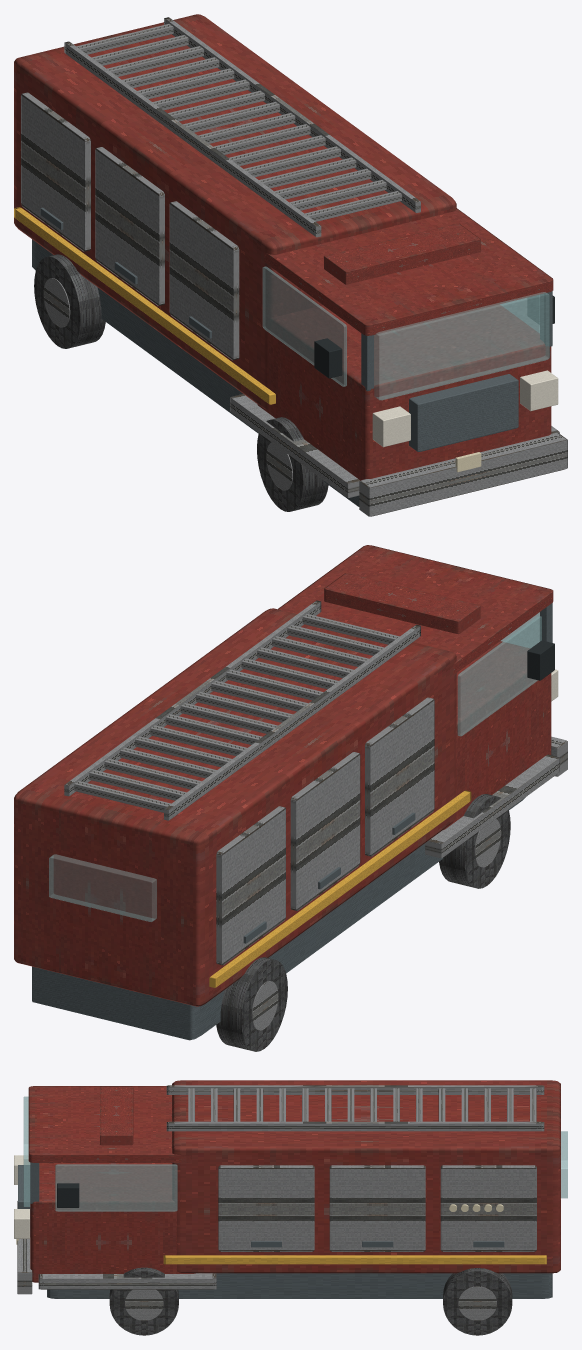
Rendered from engine.glb.
3 views of the same model, one above another, from view 1: azimuth 30°, elevation 25°; view 2: azimuth 150°, elevation 25°; view 3: azimuth 270°, elevation 25° (orthographic). The views are drawn at different scales.
Visible parts, largest first — view 1: body, cab, locker (×3), rung (×16), cab-roof, windshield, bumper, ladder-rail (×2), tyre (×2), grille, cab-glass (×2), lightbar (+7 smaller); view 2: body, locker (×3), rung (×16), cab-roof, cab, chassis, ladder-rail (×2), tyre (×2), cab-glass, lightbar, rear-windscreen, reflective (+4 smaller); view 3: body, locker (×3), cab, cab-roof, chassis, ladder-rail (×2), cab-glass, tyre (×2), reflective, running-board, rim (×2), lightbar (+7 smaller).
Boxes of the visible parts, box(x1,y1,x2,y2) form: body: box(14, 14, 456, 409); cab: box(257, 304, 551, 480); locker (×3): box(21, 92, 239, 360); rung (×16): box(76, 24, 401, 221); cab-roof: box(258, 208, 553, 335); windshield: box(374, 292, 549, 400); bumper: box(359, 432, 567, 516); ladder-rail (×2): box(64, 17, 420, 237); tyre (×2): box(34, 254, 328, 511); grille: box(409, 374, 518, 451); cab-glass (×2): box(262, 266, 539, 386); lightbar: box(324, 223, 480, 284); body: box(14, 608, 456, 1006); locker (×3): box(216, 697, 434, 965); rung (×16): box(74, 614, 399, 812); cab-roof: box(278, 545, 553, 674); cab: box(443, 641, 551, 829); chassis: box(32, 797, 525, 1040); ladder-rail (×2): box(64, 600, 420, 820); tyre (×2): box(216, 794, 510, 1051); cab-glass: box(457, 616, 541, 736); lightbar: box(324, 573, 480, 634); rear-windscreen: box(49, 854, 156, 921); reflective: box(209, 790, 471, 987); body: box(172, 1080, 560, 1273); locker (×3): box(218, 1165, 536, 1251); cab: box(30, 1163, 195, 1282); cab-roof: box(28, 1086, 191, 1162); chassis: box(47, 1273, 552, 1298); ladder-rail (×2): box(166, 1085, 544, 1131); cab-glass: box(55, 1164, 177, 1211); tyre (×2): box(109, 1267, 512, 1335); reflective: box(163, 1255, 546, 1264); running-board: box(38, 1273, 216, 1289); rim (×2): box(125, 1286, 496, 1320); lightbar: box(100, 1086, 133, 1145).
Bounding box in the file's own units: 2.88 × 3.15 × 8.18.
10 materials, 10 textured.
